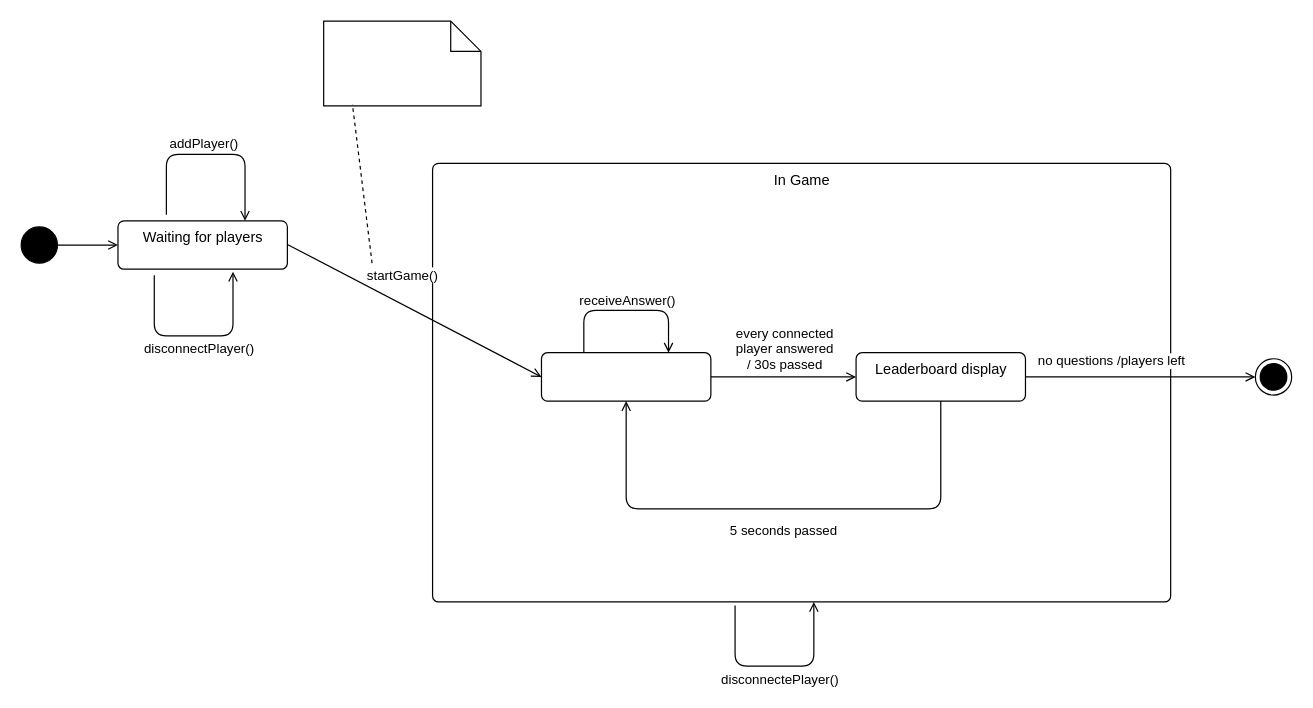
Image size: 1313x708. Some labels were removed from this diagram. The shapes that lost their labels are listed below. From the top down, each one's centre as x and y in pixels, then its label:
[401,63]: Only available when there are > 1 players
[625,376]: Question dispaly
